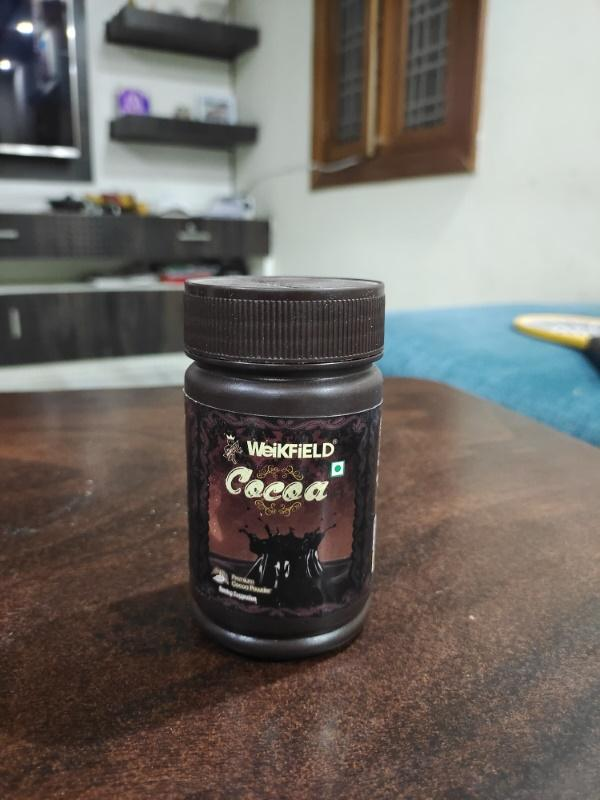Cocoa Powder: (171, 267, 400, 676)
